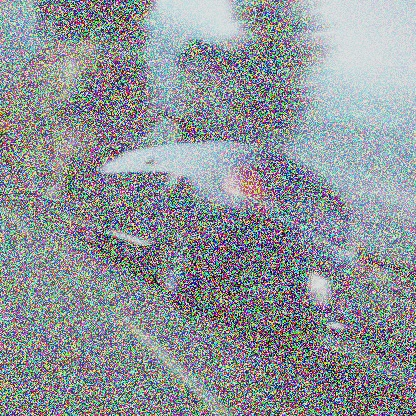Vehicle: (86, 110, 361, 360)
